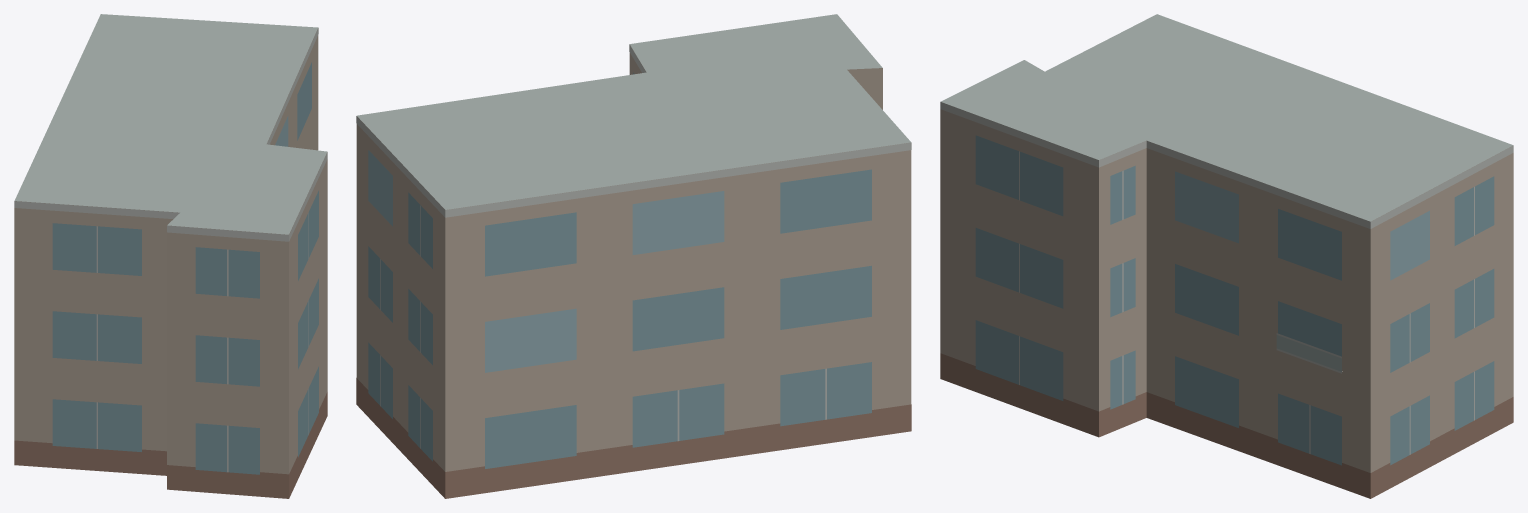
The model's file is survey-upis-32693461.glb.
3 renders of one model, left to right at view 1: azimuth 30°, elevation 25°; view 2: azimuth 150°, elevation 25°; view 3: azimuth 270°, elevation 25°, orthographic. The views are drawn at different scales.
Parts seen in each view (by area): view 1: survey-upis-32693461.tmp; view 2: survey-upis-32693461.tmp; view 3: survey-upis-32693461.tmp.
Part boxes in pixels (x1=…): survey-upis-32693461.tmp: x1=14, y1=14, x2=327, y2=498; survey-upis-32693461.tmp: x1=356, y1=14, x2=911, y2=498; survey-upis-32693461.tmp: x1=940, y1=14, x2=1513, y2=498.
Size of the model in its own units: 14.72 by 9.15 by 17.16.
